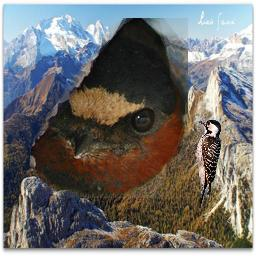Swallow: (30, 18, 188, 198)
Woodpecker: (192, 117, 223, 211)
